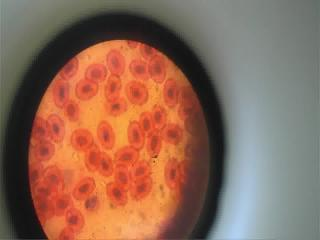cell: (69, 125, 93, 148), (96, 121, 118, 146), (73, 177, 99, 198), (127, 121, 147, 147), (162, 158, 178, 190), (80, 81, 106, 100), (106, 96, 128, 117), (129, 156, 151, 176), (55, 78, 73, 102), (116, 146, 140, 164), (35, 142, 59, 160), (51, 113, 65, 143), (125, 84, 147, 103), (87, 62, 107, 82), (152, 57, 168, 82), (32, 195, 52, 215), (162, 125, 182, 145), (106, 186, 125, 207), (154, 104, 170, 128), (114, 166, 130, 190), (60, 59, 80, 78), (98, 152, 116, 173), (25, 162, 42, 184), (110, 50, 126, 73), (138, 112, 157, 131), (105, 77, 123, 97), (66, 208, 86, 226), (37, 179, 58, 196), (131, 58, 147, 80), (65, 98, 81, 120), (132, 178, 151, 196), (85, 148, 100, 170), (49, 166, 67, 184), (52, 194, 70, 212), (150, 134, 162, 160), (32, 120, 49, 138), (164, 85, 178, 104)
